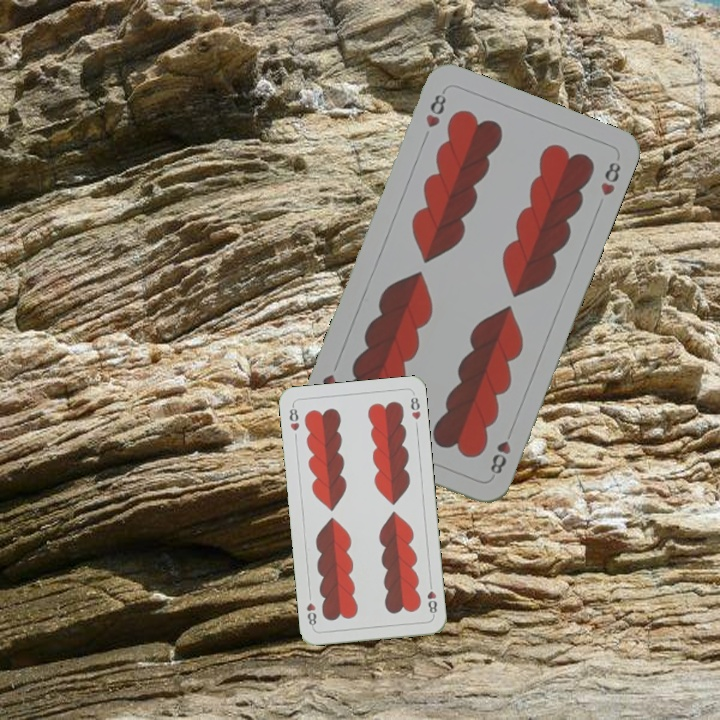H8: (486, 424, 516, 477), (421, 86, 449, 131), (423, 578, 440, 619), (285, 401, 302, 433)
